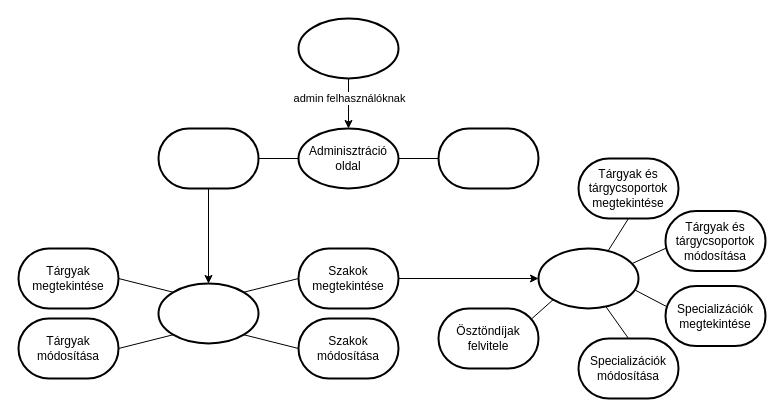
Some shapes in this 783 by 416 pixel diagram are drawn without their labels. Each missing label, with the centre of its shape:
"Egyetem oldal" belongs at point 208,313.
"Egyetemek megtekintése" belongs at point 208,158.
"Egyetemek módosítása" belongs at point 488,158.
"Főoldal" belongs at point 348,48.
"Szak oldal" belongs at point 588,278.
